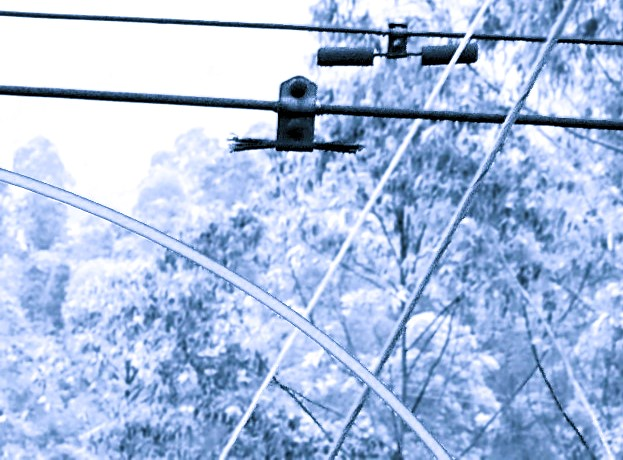Damage of shockproof hammer: (220, 72, 368, 165)
